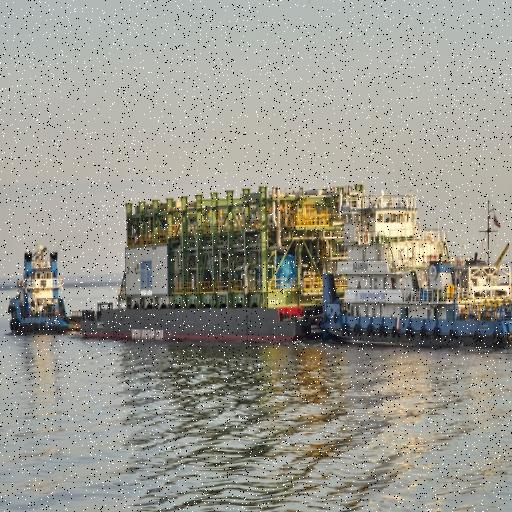tugboat: (321, 183, 512, 355), (5, 242, 116, 343)
